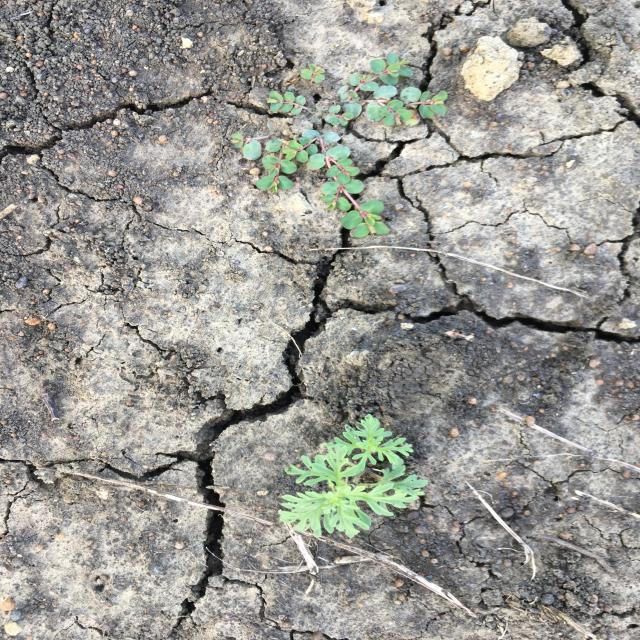Ragweed: (276, 412, 432, 540)
SpottedSpurge: (227, 52, 450, 240)
